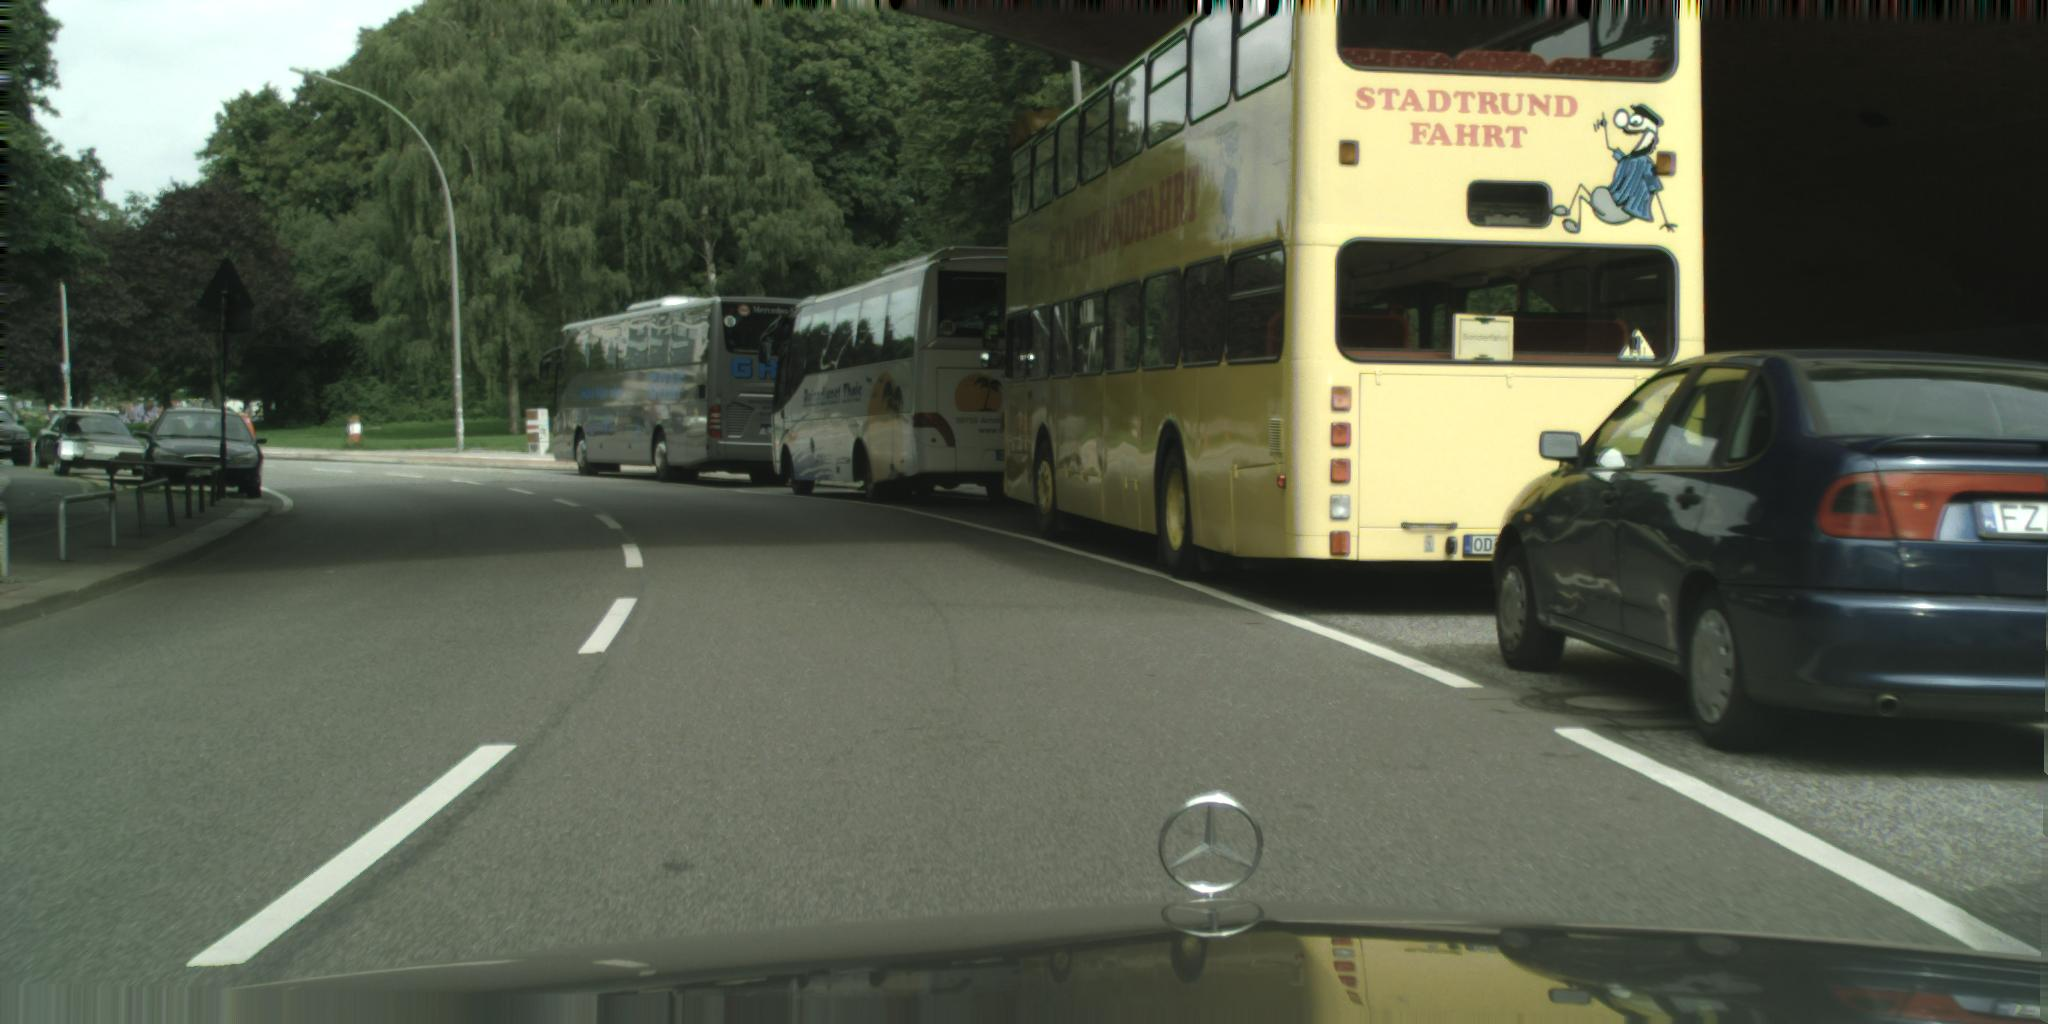bus: (984, 1, 1718, 583), (760, 234, 1071, 508), (539, 295, 825, 488)
car: (1493, 350, 2048, 754), (136, 408, 268, 500), (37, 410, 152, 478), (1, 406, 34, 468)
